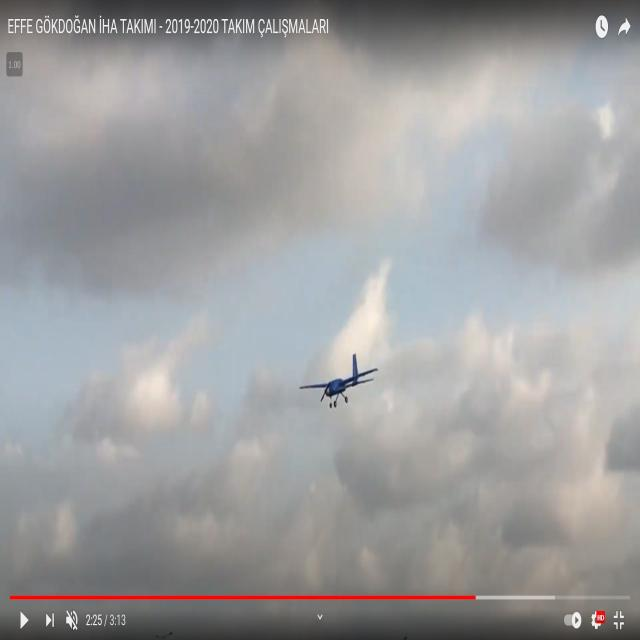iha: (331, 353, 347, 410)
